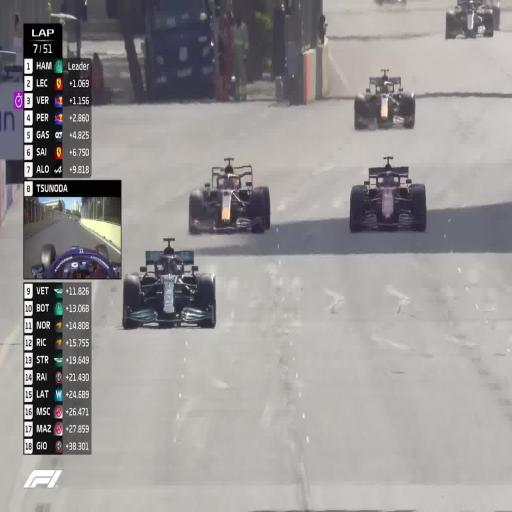f1_car: (122, 238, 216, 329), (189, 157, 270, 233), (349, 156, 426, 232), (354, 69, 415, 129), (32, 244, 121, 278), (445, 0, 495, 39), (484, 0, 500, 30), (374, 0, 406, 5)
